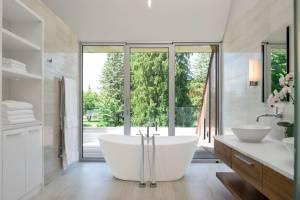window: (79, 42, 224, 163)
